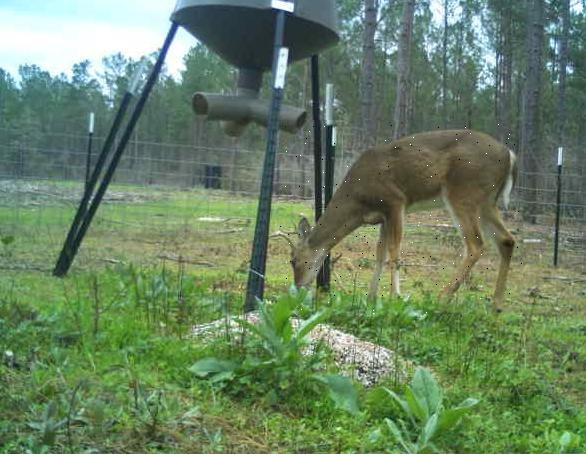Deer: (277, 121, 522, 319)
